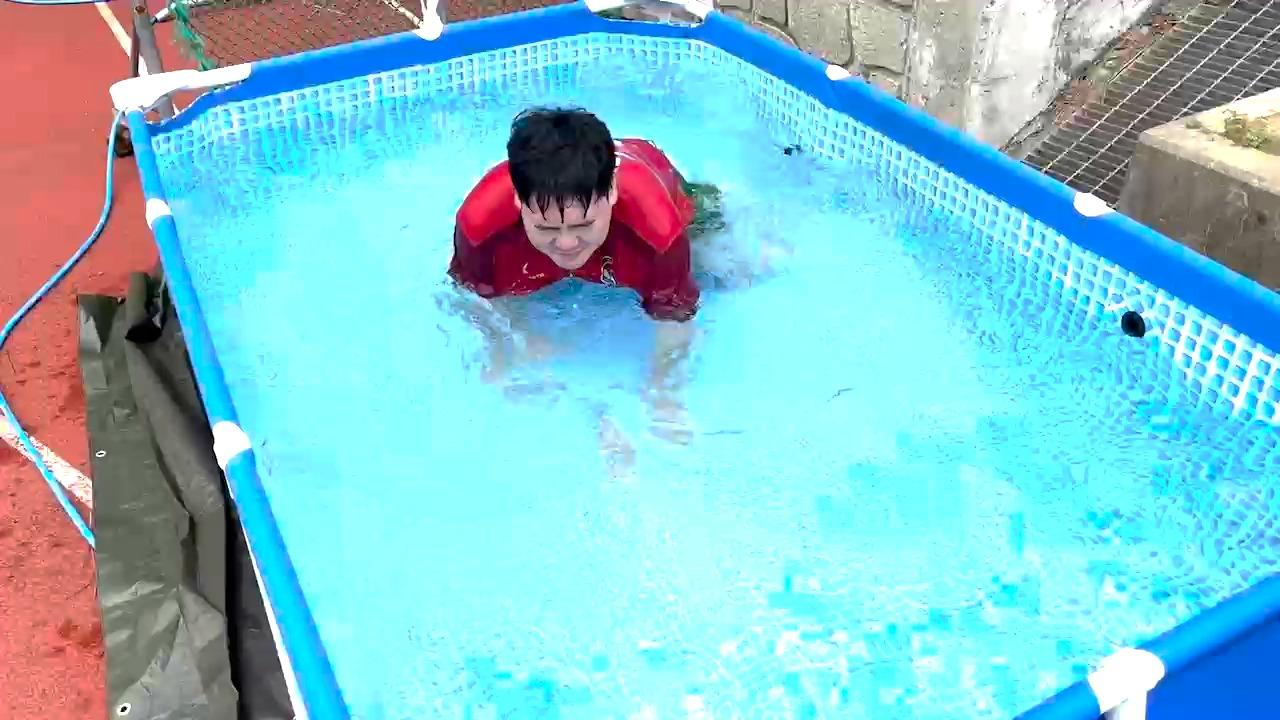Drowning: (330, 63, 782, 460)
